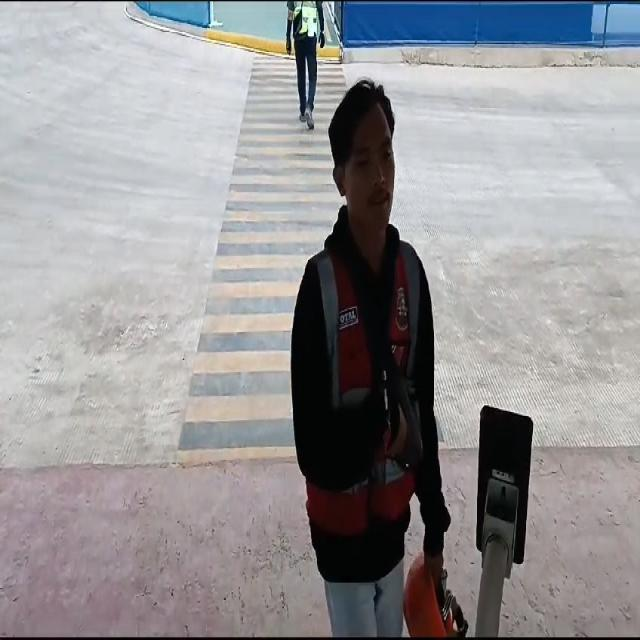gloves: (316, 28, 329, 51), (284, 35, 296, 55)
helmet: (400, 556, 476, 640)
safety_vest: (312, 227, 416, 537), (296, 0, 318, 34)
